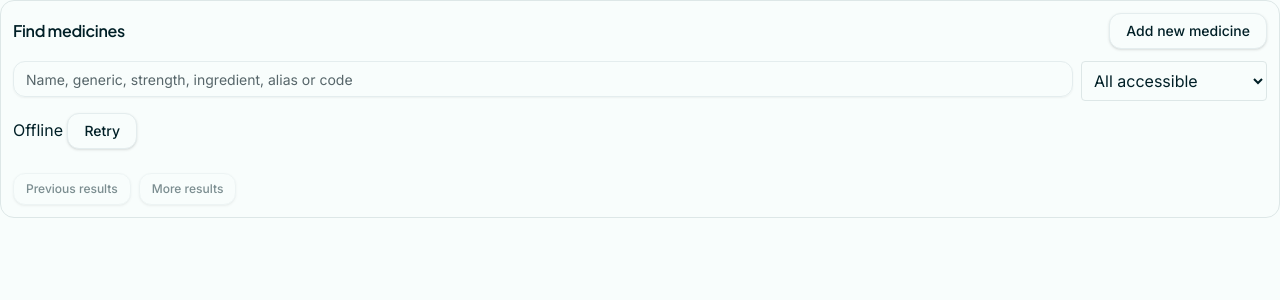
Test: retains search errors and allows recovery
Click the button "Retry".
click(102, 131)  # box [68,113,137,149]
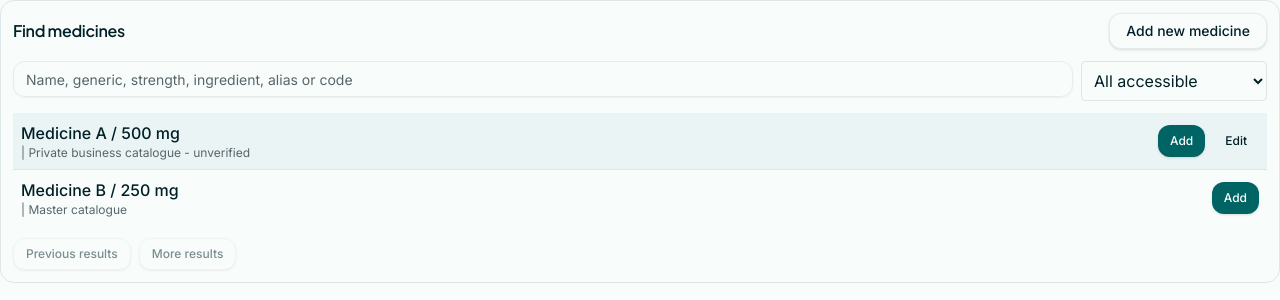
Now the text "Medicine A" is shown, box [21,123,180,143]
Now the message "Offline Retry" is gone
